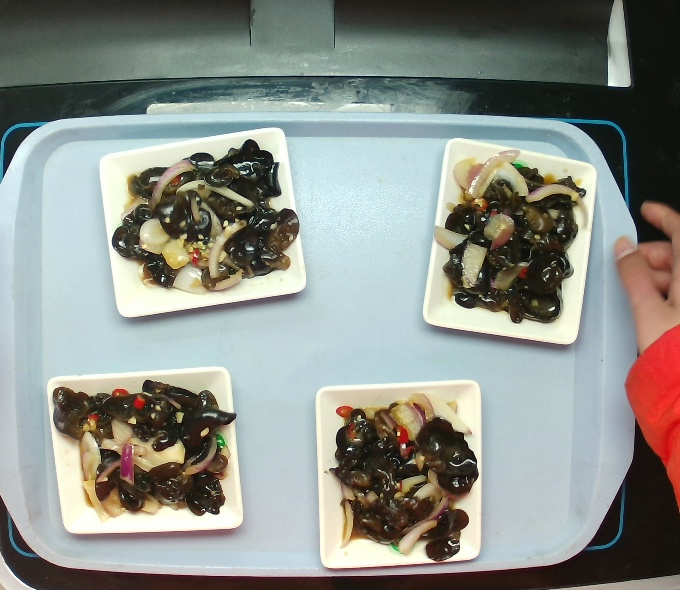wcq-LiangBanMuEr: (34, 372, 262, 531), (115, 137, 295, 299), (430, 149, 592, 322), (330, 395, 478, 549)
